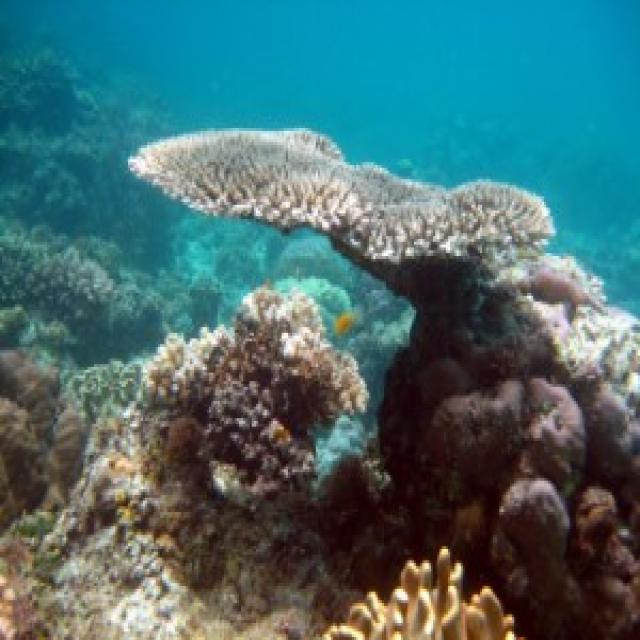Healthy: (381, 257, 639, 638), (35, 405, 330, 638), (131, 129, 554, 263), (138, 288, 368, 493), (325, 547, 517, 638)
